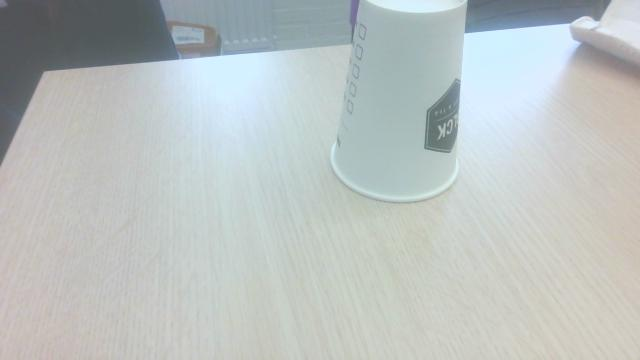cup: (316, 1, 483, 210), (558, 1, 638, 73)
